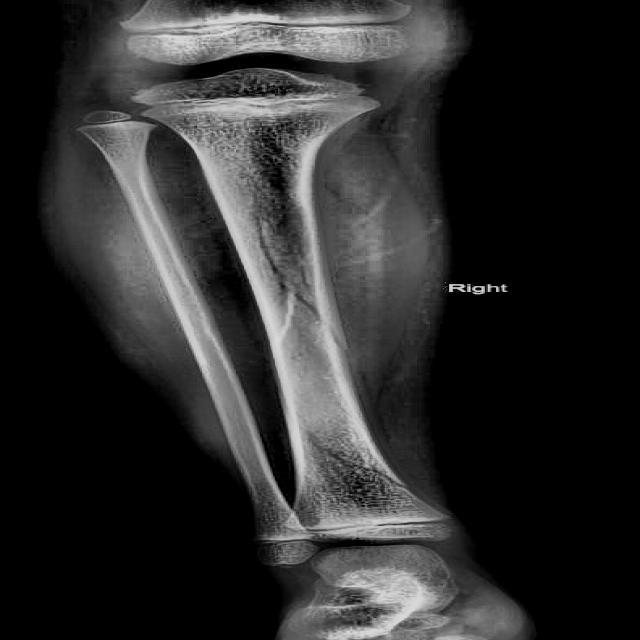fracture: (250, 217, 344, 350), (300, 436, 409, 489)
